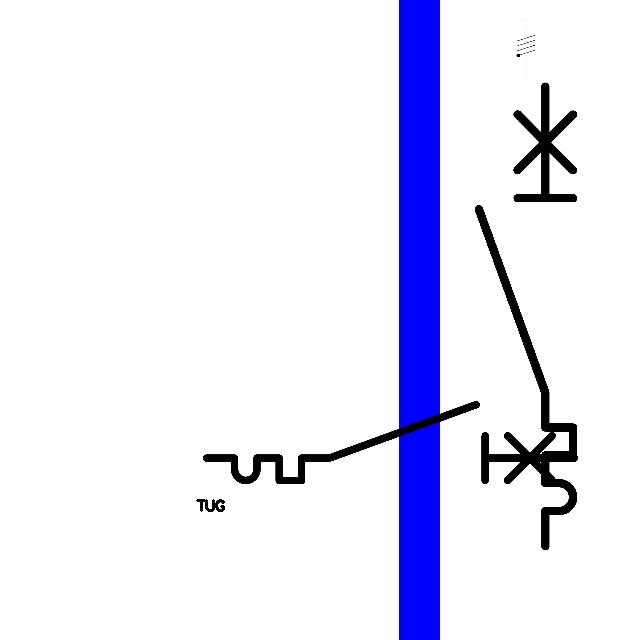interruptor_termomagnetico: (467, 74, 585, 558), (197, 395, 584, 490)
